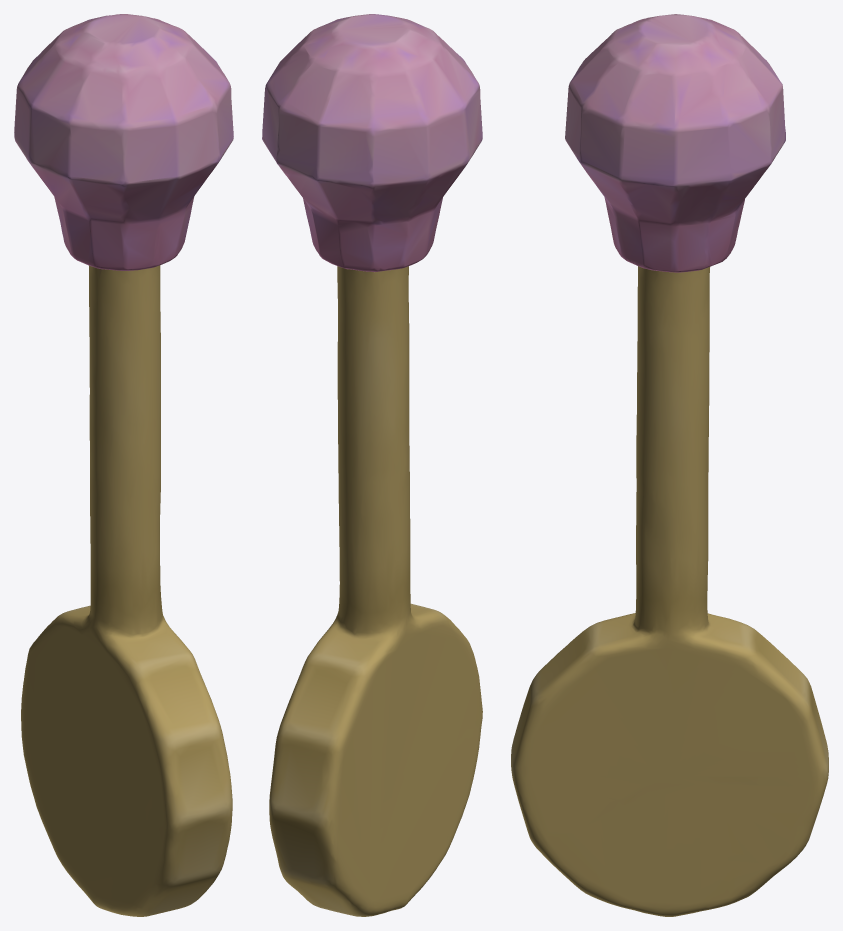
File: SM_leverPink.fbx
3 renders of one model, left to right at view 1: azimuth 30°, elevation 25°; view 2: azimuth 150°, elevation 25°; view 3: azimuth 270°, elevation 25°, orthographic.
Visible parts, largest first — view 1: lever_pink; view 2: lever_pink; view 3: lever_pink.
Boxes of the visible parts, x1=… form: lever_pink: x1=14, y1=14, x2=233, y2=916; lever_pink: x1=262, y1=14, x2=482, y2=916; lever_pink: x1=511, y1=14, x2=828, y2=916.
Bounding box in the file's own units: 16.98 × 74.32 × 24.44.
